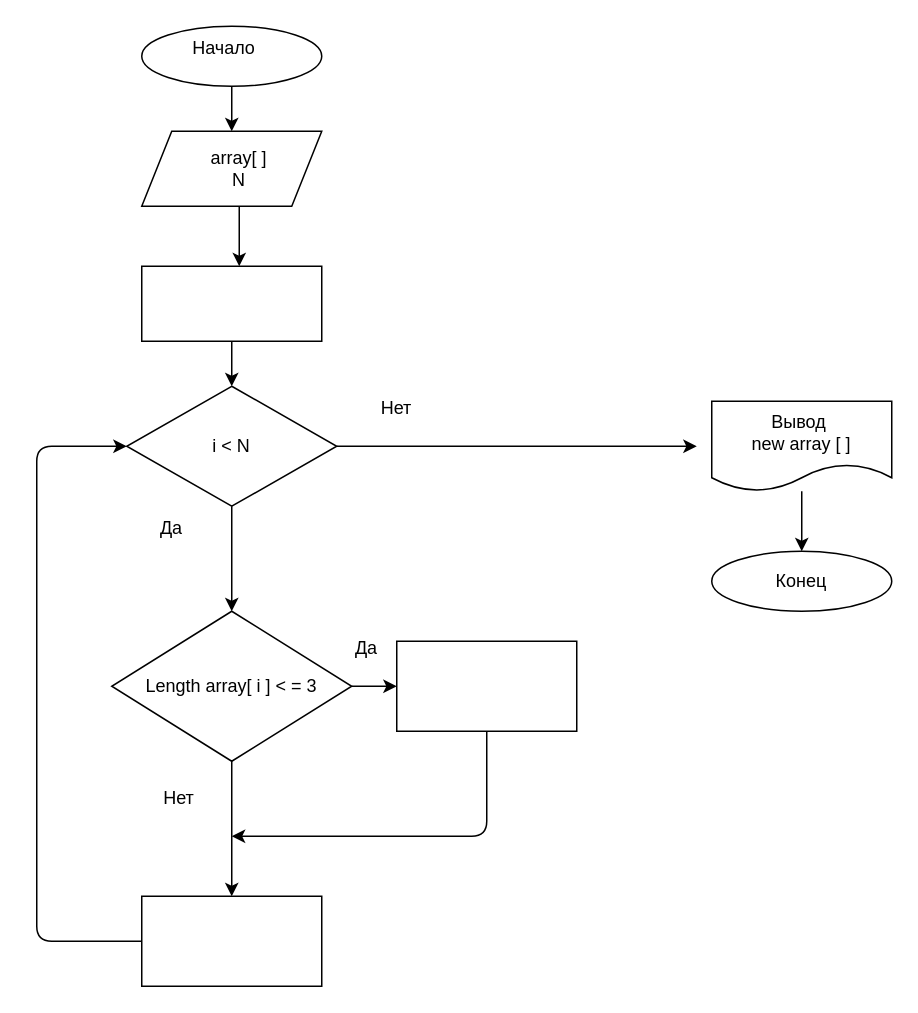
The diagram is 918 pixels wide and 1013 high, and some of its shapes have lost their labels. Here are the shapes that lost their labels. From the top down, the box of each, then its label:
(140, 265, 322, 341): i = 0 newarray[ ]
(395, 640, 577, 731): Поместить array[ i ] в newarray [ ]
(140, 895, 322, 986): i = i + 1
